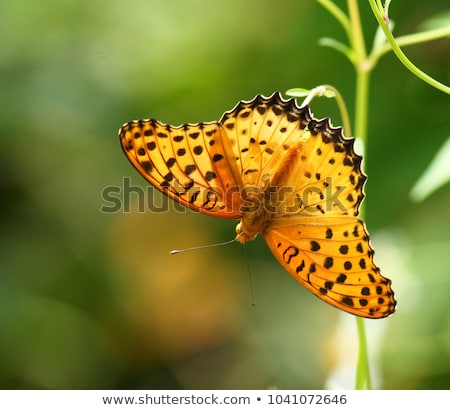Argyreus hyperbius: (114, 85, 397, 316)
butterfly: (116, 87, 399, 318)
